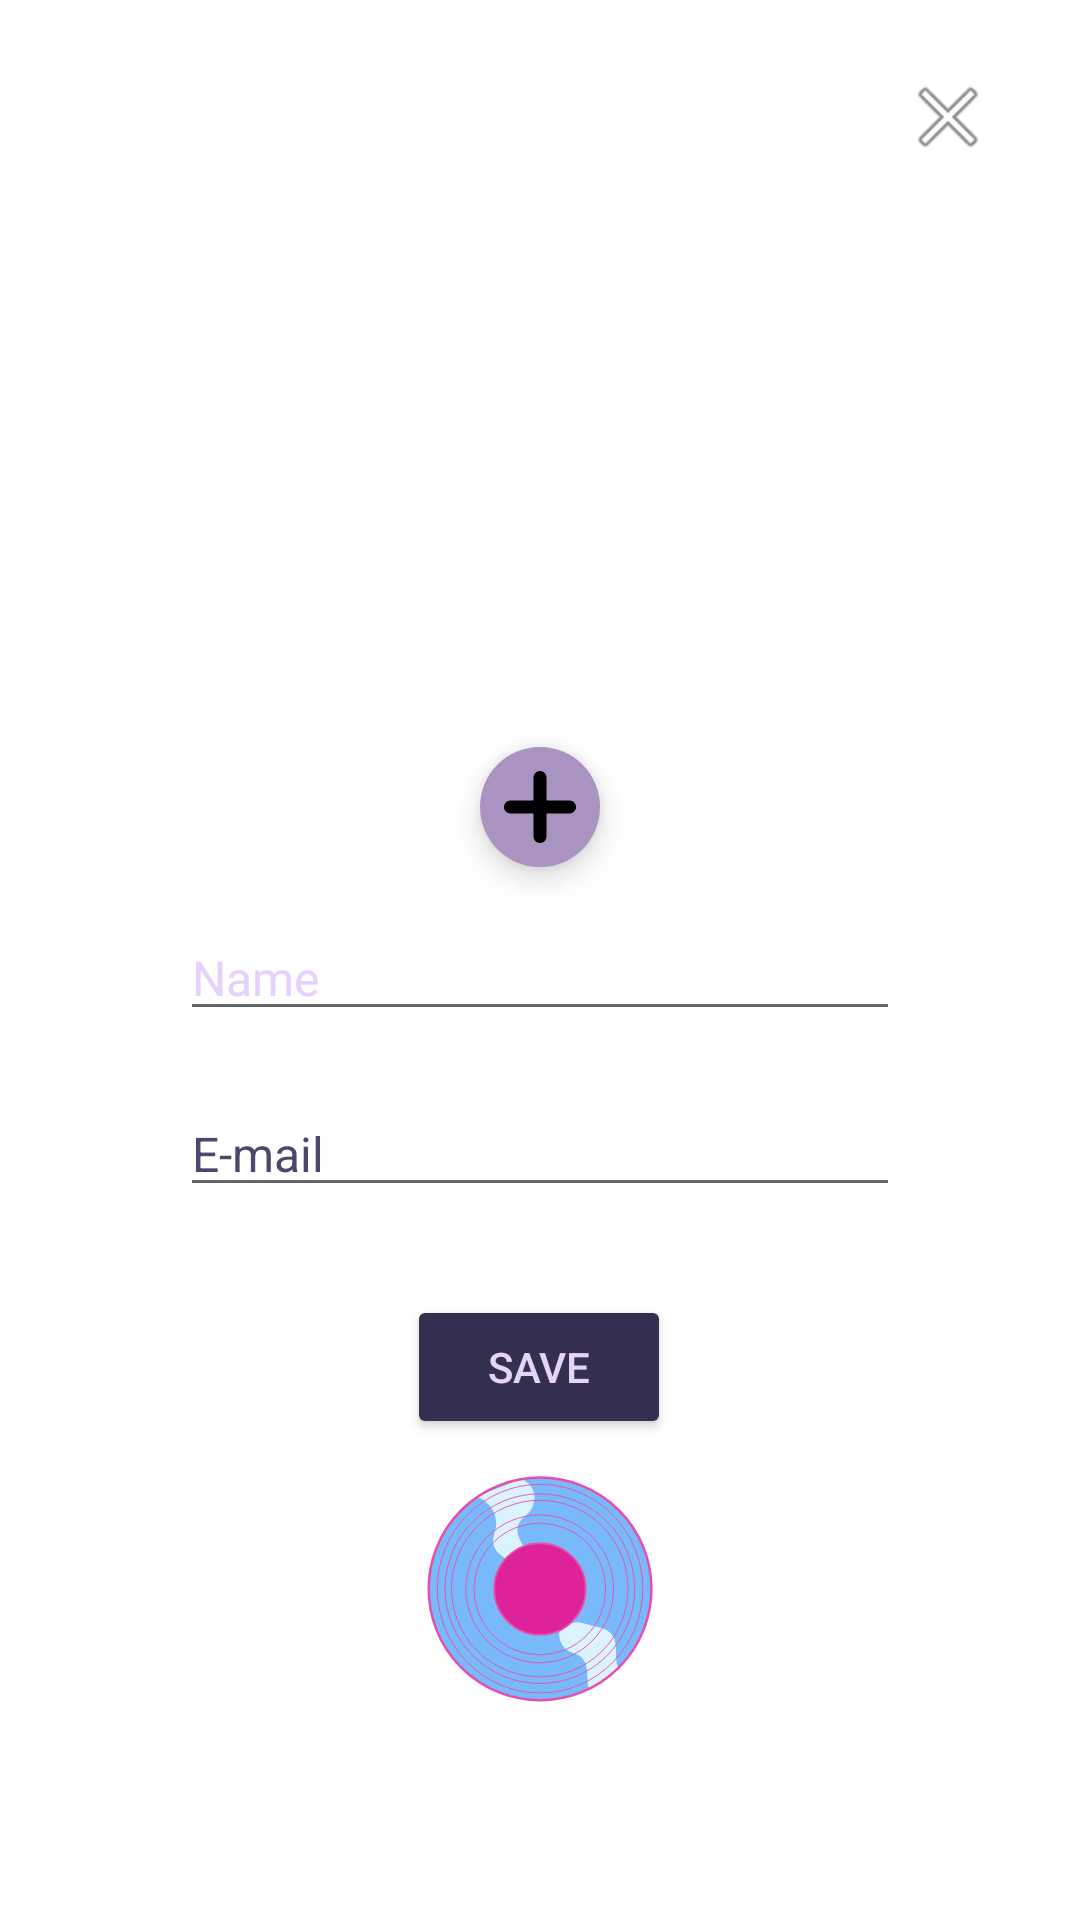

Icon bounding boxes for this 1080 x 1920 phone screenshot, format (x1, y1, x2, y2):
close clear cancel: (918, 87, 978, 147)
discoteca: (427, 1476, 653, 1702)
follow: (480, 747, 600, 872)
